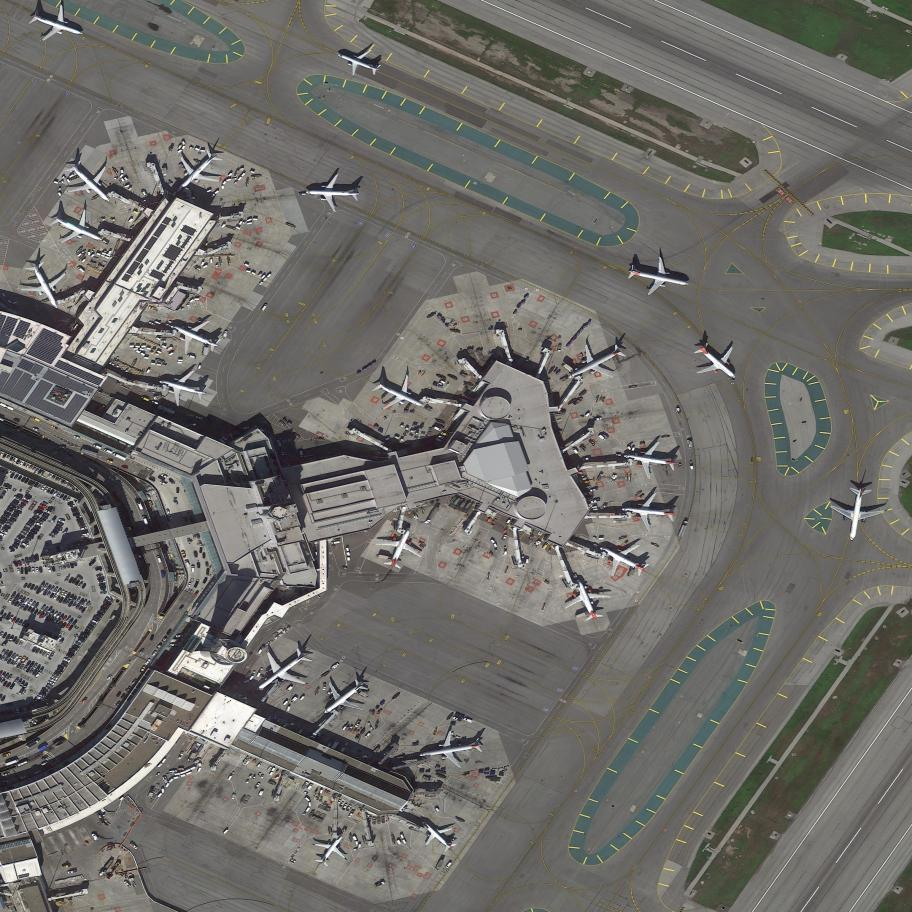large-vehicle: (424, 505, 440, 525), (676, 520, 688, 538), (80, 447, 99, 457), (25, 739, 41, 749), (435, 859, 445, 872), (113, 452, 126, 462), (5, 759, 19, 767), (38, 743, 49, 752), (103, 448, 114, 456), (141, 516, 149, 526), (136, 502, 144, 512), (156, 554, 163, 565), (77, 265, 85, 274), (222, 330, 228, 340), (261, 304, 268, 312), (160, 570, 166, 579)
plane: (237, 629, 327, 712), (155, 130, 236, 212), (555, 325, 639, 400), (51, 142, 128, 221), (679, 324, 754, 398), (305, 659, 381, 732), (6, 253, 82, 320), (586, 526, 661, 592), (362, 362, 436, 425), (41, 197, 115, 259), (822, 481, 892, 546), (158, 306, 231, 366), (622, 249, 693, 304), (413, 724, 487, 774), (555, 570, 618, 628), (150, 358, 215, 414), (368, 520, 431, 576), (407, 806, 466, 865), (618, 435, 684, 485), (329, 36, 391, 88), (616, 488, 681, 535), (303, 822, 357, 878), (304, 172, 362, 214)
small-vehicle: (227, 432, 236, 441), (218, 437, 227, 446), (597, 433, 606, 442), (129, 842, 138, 851), (91, 832, 99, 842), (571, 447, 579, 456), (331, 662, 340, 670), (301, 781, 310, 789), (123, 880, 131, 889), (57, 612, 65, 621), (93, 443, 103, 450), (440, 431, 450, 438), (452, 716, 462, 723), (222, 436, 230, 444), (364, 731, 372, 739), (38, 612, 46, 620), (1, 639, 9, 647), (88, 559, 96, 567), (32, 416, 41, 423), (435, 437, 444, 444), (148, 305, 157, 312), (354, 720, 361, 729), (139, 665, 146, 674), (464, 717, 473, 724), (348, 810, 355, 819), (193, 758, 202, 765), (41, 686, 50, 693), (103, 600, 112, 607), (105, 597, 114, 604), (26, 533, 35, 540), (591, 498, 601, 504), (1, 452, 8, 460), (49, 488, 56, 496), (184, 560, 191, 568), (168, 478, 176, 485), (160, 472, 168, 479), (73, 434, 81, 441), (77, 581, 84, 589), (36, 482, 43, 490), (68, 503, 76, 510), (47, 472, 54, 480), (41, 500, 49, 507), (169, 560, 176, 568), (275, 440, 282, 448), (433, 426, 441, 433), (542, 542, 549, 550), (275, 717, 282, 725), (82, 696, 89, 704), (106, 674, 113, 682), (115, 700, 122, 708), (161, 635, 168, 643), (306, 783, 313, 791), (446, 861, 453, 869), (35, 663, 42, 671), (46, 606, 53, 614), (42, 613, 49, 621), (9, 682, 16, 690), (54, 669, 62, 676), (13, 654, 20, 662), (102, 603, 110, 610), (52, 610, 59, 618), (49, 608, 56, 616), (8, 634, 15, 642), (4, 510, 12, 517), (40, 604, 47, 612), (48, 653, 55, 661), (32, 584, 39, 592), (35, 587, 42, 595), (42, 589, 49, 597), (39, 580, 46, 588), (62, 527, 69, 535), (30, 528, 38, 535), (56, 521, 64, 528), (181, 550, 187, 559), (50, 424, 59, 430), (79, 526, 88, 532), (13, 495, 22, 501), (39, 503, 48, 509), (21, 542, 30, 548), (195, 415, 204, 421), (279, 448, 285, 457), (438, 435, 447, 441), (141, 396, 150, 402), (187, 354, 196, 360), (33, 769, 42, 775), (40, 761, 49, 767), (2, 752, 11, 758), (100, 606, 109, 612), (96, 611, 105, 617), (47, 680, 56, 686), (69, 560, 75, 569), (331, 540, 341, 545), (240, 426, 250, 431), (29, 480, 36, 487), (33, 481, 40, 488), (39, 588, 46, 595), (52, 587, 59, 594), (52, 490, 59, 497), (501, 534, 508, 541), (265, 715, 272, 722), (115, 691, 122, 698), (138, 648, 145, 655), (156, 642, 163, 649), (256, 761, 263, 768), (266, 765, 273, 772), (6, 598, 13, 605), (28, 667, 35, 674), (33, 602, 40, 609), (29, 607, 36, 614), (84, 601, 91, 608), (31, 720, 38, 727), (55, 612, 62, 619), (30, 601, 37, 608), (10, 652, 17, 659), (36, 610, 43, 617), (22, 664, 29, 671), (16, 656, 23, 663), (6, 674, 13, 681), (23, 525, 30, 532), (71, 578, 78, 585), (48, 592, 55, 599), (55, 595, 62, 602), (27, 478, 33, 486), (41, 755, 49, 761), (13, 417, 21, 423), (173, 498, 179, 506), (149, 477, 157, 483), (159, 480, 167, 486), (106, 459, 114, 465), (70, 506, 78, 512), (15, 506, 23, 512), (44, 548, 50, 556), (64, 575, 70, 583), (43, 582, 49, 590), (0, 529, 8, 535), (40, 484, 46, 492), (65, 495, 71, 503), (21, 499, 29, 505), (44, 509, 52, 515), (151, 400, 159, 406), (145, 658, 151, 666), (151, 650, 157, 658), (166, 629, 172, 637), (202, 576, 208, 584), (162, 776, 168, 784), (27, 599, 33, 607), (56, 666, 64, 672), (1, 670, 7, 678), (45, 683, 53, 689), (99, 608, 107, 614), (95, 613, 103, 619), (93, 616, 101, 622), (84, 628, 92, 634), (82, 631, 90, 637), (78, 636, 86, 642), (72, 644, 80, 650), (68, 648, 76, 654), (66, 653, 74, 659), (148, 501, 154, 509), (65, 616, 71, 624), (62, 614, 68, 622), (5, 613, 11, 621), (59, 637, 65, 645), (35, 695, 43, 701), (16, 493, 24, 499), (19, 501, 27, 507), (11, 500, 19, 506), (9, 503, 17, 509), (7, 505, 15, 511), (5, 508, 13, 514), (3, 513, 11, 519), (12, 511, 20, 517), (37, 506, 45, 512), (14, 706, 20, 714), (65, 622, 71, 630), (77, 638, 85, 644), (63, 657, 71, 663), (52, 672, 60, 678), (50, 675, 58, 681), (49, 678, 57, 684), (21, 656, 27, 664), (65, 561, 71, 569), (24, 557, 30, 565), (37, 519, 45, 525), (34, 524, 42, 530), (32, 526, 40, 532), (28, 531, 36, 537), (24, 536, 32, 542), (22, 539, 30, 545), (19, 544, 27, 550), (54, 526, 62, 532), (55, 523, 63, 529), (593, 417, 602, 422), (582, 457, 591, 462), (590, 487, 599, 492), (168, 769, 177, 774), (57, 664, 66, 669), (5, 702, 14, 707), (15, 458, 21, 465), (28, 463, 34, 470), (31, 465, 37, 472), (35, 466, 41, 473), (38, 468, 44, 475), (51, 473, 57, 480), (14, 473, 20, 480), (17, 474, 23, 481), (59, 493, 65, 500), (162, 553, 168, 560), (172, 568, 178, 575), (168, 515, 174, 522), (187, 510, 193, 517), (121, 465, 128, 471), (62, 494, 68, 501), (52, 593, 58, 600), (62, 591, 68, 598), (75, 603, 81, 610), (43, 486, 49, 493), (46, 487, 52, 494), (25, 462, 31, 469), (12, 457, 18, 464), (23, 496, 30, 502), (58, 518, 65, 524), (272, 716, 278, 723), (326, 742, 332, 749), (316, 732, 322, 739), (126, 686, 132, 693), (132, 678, 138, 685), (178, 604, 184, 611), (197, 540, 203, 547), (339, 801, 345, 808), (346, 805, 352, 812), (24, 598, 30, 605), (26, 666, 32, 673), (29, 661, 35, 668), (26, 659, 32, 666), (19, 663, 25, 670), (21, 596, 27, 603), (23, 605, 29, 612), (33, 608, 39, 615), (46, 614, 52, 621), (52, 617, 58, 624), (55, 619, 61, 626), (61, 622, 67, 629), (78, 598, 84, 605), (82, 600, 88, 607), (34, 718, 41, 724), (0, 695, 6, 702), (19, 687, 25, 694), (6, 681, 12, 688), (3, 680, 9, 687), (0, 678, 6, 685), (17, 678, 23, 685), (20, 680, 26, 687), (4, 672, 10, 679), (40, 690, 47, 696), (58, 621, 64, 628), (6, 658, 12, 665), (71, 646, 78, 652), (48, 506, 55, 512), (3, 656, 9, 663), (72, 619, 78, 626), (7, 651, 13, 658), (1, 612, 7, 619), (8, 616, 14, 623), (15, 617, 21, 624), (18, 619, 24, 626), (21, 620, 27, 627), (5, 633, 11, 640), (18, 640, 24, 647), (35, 647, 41, 654), (65, 592, 71, 599), (13, 498, 20, 504), (10, 516, 17, 522), (6, 521, 13, 527), (2, 526, 9, 532), (31, 516, 38, 522), (25, 523, 32, 529), (75, 641, 82, 647), (45, 652, 51, 659), (32, 663, 38, 670), (35, 671, 41, 678), (13, 661, 19, 668), (13, 677, 19, 684), (0, 655, 6, 662), (27, 520, 34, 526), (46, 584, 52, 591), (74, 579, 80, 586), (81, 583, 87, 590), (73, 559, 79, 566), (58, 597, 64, 604), (68, 601, 74, 608), (81, 607, 87, 614), (51, 515, 57, 522), (48, 533, 55, 539), (31, 556, 37, 563), (67, 870, 77, 874), (164, 544, 169, 552), (158, 476, 166, 481), (19, 531, 27, 536), (35, 522, 43, 527), (75, 517, 83, 522), (81, 532, 89, 537), (148, 321, 156, 326), (2, 772, 10, 777), (61, 660, 69, 665), (89, 622, 97, 627), (86, 626, 94, 631), (80, 634, 88, 639), (67, 651, 75, 656), (14, 509, 22, 514), (11, 514, 19, 519), (36, 509, 44, 514), (34, 512, 42, 517), (32, 514, 40, 519), (91, 619, 99, 624), (18, 534, 26, 539), (41, 514, 49, 519), (39, 517, 47, 522), (5, 454, 11, 460), (58, 477, 64, 483), (60, 478, 66, 484), (69, 482, 75, 488), (4, 469, 10, 475), (9, 472, 15, 478), (50, 586, 56, 592), (56, 589, 62, 595), (56, 492, 62, 498), (19, 460, 25, 466), (186, 414, 195, 418), (120, 693, 126, 699), (336, 800, 342, 806), (342, 804, 348, 810), (39, 666, 45, 672), (18, 595, 24, 601), (23, 682, 29, 688), (68, 625, 74, 631), (68, 594, 74, 600), (9, 546, 15, 552), (13, 561, 19, 567), (56, 637, 62, 643), (20, 604, 26, 610), (42, 651, 48, 657), (34, 555, 40, 561), (64, 479, 69, 486), (22, 461, 27, 468), (67, 480, 72, 487), (21, 476, 26, 483), (24, 477, 29, 484), (32, 427, 39, 432), (146, 494, 151, 501), (67, 501, 74, 506), (60, 545, 65, 552), (21, 558, 26, 565), (18, 560, 23, 567), (58, 564, 63, 571), (22, 529, 29, 534), (72, 509, 79, 514), (75, 515, 82, 520), (77, 520, 84, 525), (299, 451, 304, 458), (322, 683, 327, 690), (194, 581, 199, 588), (19, 775, 26, 780), (60, 662, 67, 667), (16, 662, 21, 669), (15, 593, 20, 600), (11, 599, 16, 606), (44, 606, 49, 613), (76, 576, 83, 581), (80, 539, 85, 546), (44, 685, 51, 690), (88, 624, 95, 629), (2, 632, 7, 639), (13, 636, 18, 643), (15, 638, 20, 645), (32, 646, 37, 653), (4, 649, 9, 656), (96, 573, 103, 578), (25, 494, 32, 499), (18, 504, 25, 509), (1, 516, 8, 521), (7, 519, 14, 524), (4, 524, 11, 529), (29, 518, 36, 523), (1, 648, 6, 655), (17, 602, 22, 609), (38, 693, 45, 698), (24, 567, 29, 574), (51, 566, 56, 573), (62, 563, 67, 570), (27, 582, 32, 589), (30, 583, 35, 590), (16, 536, 23, 541), (14, 539, 21, 544), (13, 541, 20, 546), (12, 544, 19, 549), (43, 511, 50, 516), (52, 529, 59, 534), (50, 532, 57, 537), (28, 557, 33, 564), (191, 565, 195, 573), (99, 591, 107, 595), (78, 523, 86, 527), (176, 634, 184, 638), (97, 576, 105, 580), (9, 456, 14, 462), (55, 475, 60, 481), (72, 485, 77, 491), (165, 509, 170, 515), (63, 545, 68, 551), (16, 568, 21, 574), (47, 567, 52, 573), (60, 590, 65, 596), (76, 597, 81, 603), (73, 602, 78, 608), (65, 600, 70, 606), (47, 591, 52, 597), (186, 538, 191, 544), (192, 534, 197, 540), (194, 590, 199, 596), (187, 583, 192, 589), (32, 670, 37, 676), (11, 592, 16, 598), (14, 601, 19, 607), (27, 606, 32, 612), (10, 660, 15, 666), (69, 618, 74, 624), (12, 617, 17, 623), (39, 649, 44, 655), (72, 596, 77, 602), (38, 567, 43, 573), (68, 577, 73, 583), (23, 582, 28, 588), (62, 598, 67, 604), (79, 605, 84, 611), (194, 551, 198, 558), (176, 487, 180, 494), (73, 512, 80, 516), (150, 634, 154, 641), (99, 583, 106, 587), (95, 567, 102, 571), (98, 580, 105, 584), (20, 567, 24, 574), (59, 446, 67, 449), (35, 567, 39, 573), (169, 644, 177, 647), (205, 561, 209, 567), (202, 552, 206, 558), (100, 589, 107, 592), (206, 569, 210, 574), (28, 567, 32, 572), (32, 568, 35, 574), (197, 533, 200, 539), (199, 547, 202, 553), (100, 586, 106, 589), (1, 781, 9, 783)
